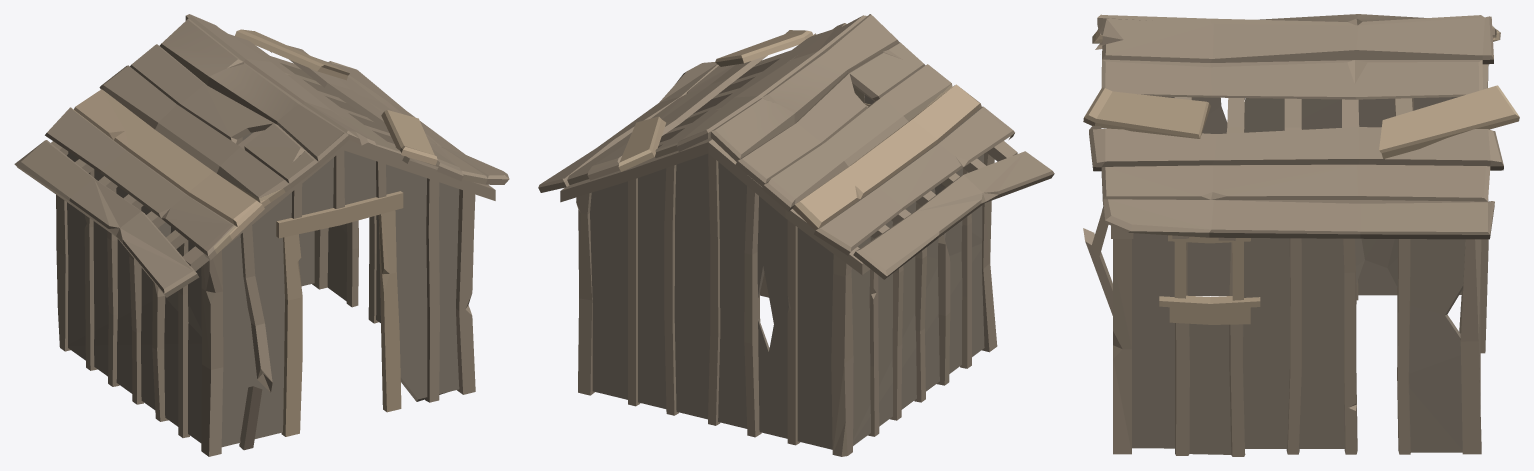
The model's file is SM_Bld_Shack_03.glb.
3 views of the same model, side by side, from view 1: azimuth 30°, elevation 25°; view 2: azimuth 150°, elevation 25°; view 3: azimuth 270°, elevation 25° (orthographic). The views are drawn at different scales.
Visible parts, largest first — view 1: SM_Bld_Shack_03; view 2: SM_Bld_Shack_03; view 3: SM_Bld_Shack_03.
Part boxes in pixels (x1=…): SM_Bld_Shack_03: x1=14, y1=14, x2=509, y2=456; SM_Bld_Shack_03: x1=538, y1=14, x2=1054, y2=456; SM_Bld_Shack_03: x1=1083, y1=14, x2=1519, y2=456.
Size of the model in its own units: 4.47 by 3.59 by 3.9.
Materials: 1 (1 with a texture image).
